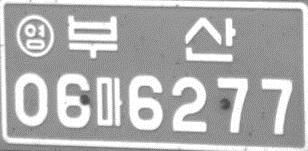0: (12, 72, 50, 127)
2: (170, 76, 208, 133)
6: (54, 71, 91, 129), (127, 74, 164, 132)
7: (259, 77, 293, 136), (216, 76, 249, 135)
마: (95, 74, 124, 128)
부산_D: (66, 14, 238, 64)
영: (15, 13, 55, 57)
